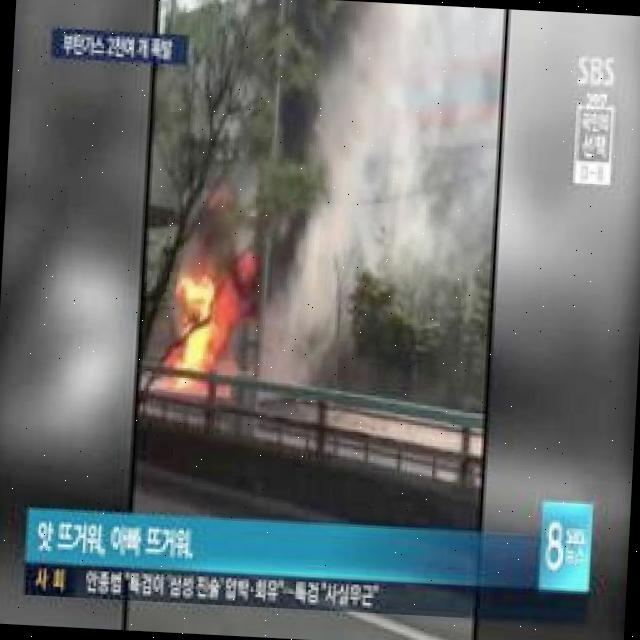fire: (158, 288, 236, 404)
